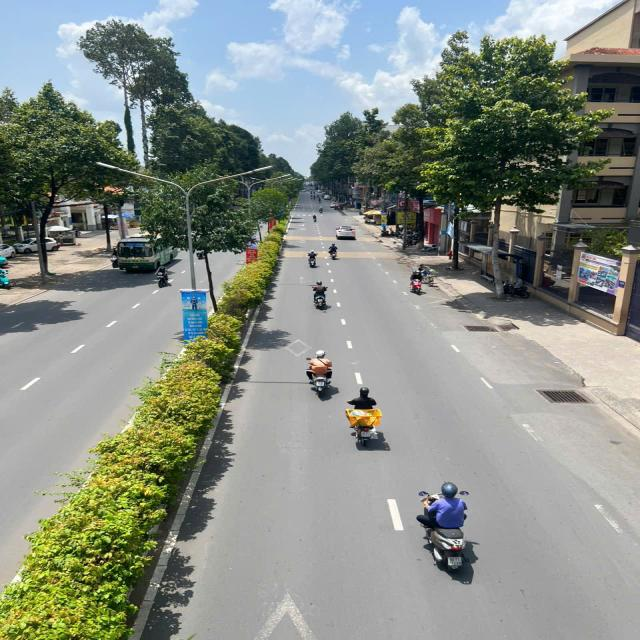Bicycle: (423, 264, 435, 288)
Bus: (120, 220, 182, 271)
car: (11, 238, 60, 255), (336, 227, 356, 240), (334, 205, 343, 210), (330, 202, 338, 207), (324, 195, 330, 200), (301, 189, 307, 193)
motobyte: (413, 484, 476, 578), (352, 389, 382, 453), (311, 352, 333, 399), (312, 281, 332, 309), (501, 283, 532, 295), (155, 265, 168, 288), (413, 271, 420, 295), (310, 250, 316, 266), (331, 244, 336, 259), (312, 215, 318, 222), (317, 206, 323, 213), (317, 194, 320, 198), (319, 198, 321, 203), (310, 192, 313, 195), (313, 196, 315, 200), (310, 196, 312, 200), (314, 191, 315, 196)
